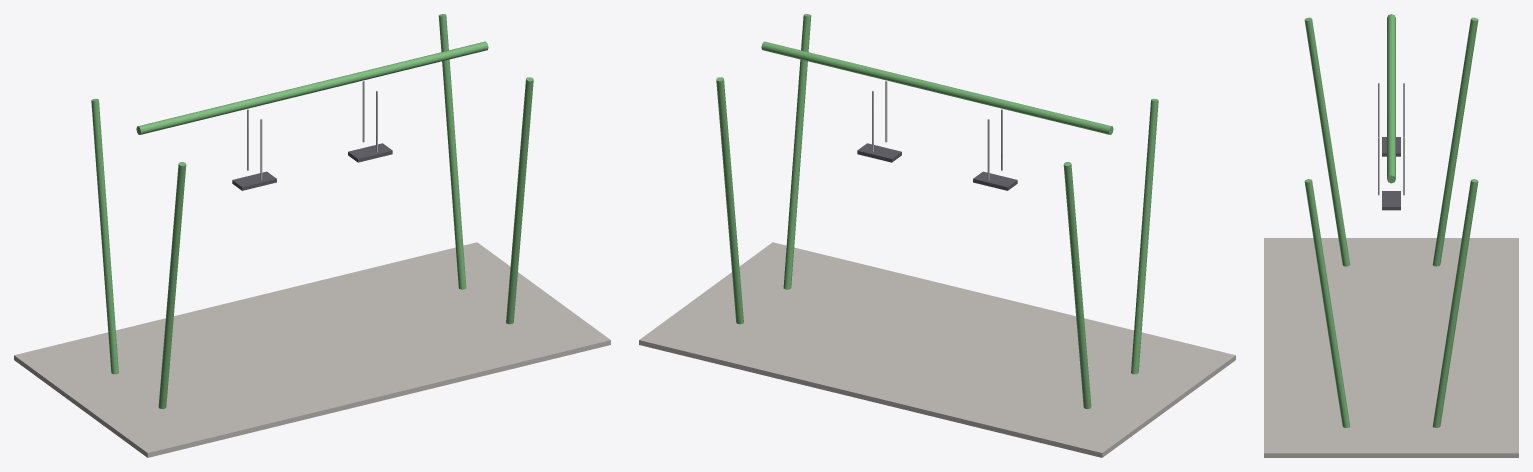
File: swing_set.glb
3 renders of one model, left to right at view 1: azimuth 30°, elevation 25°; view 2: azimuth 150°, elevation 25°; view 3: azimuth 270°, elevation 25°, orthographic. The views are drawn at different scales.
Parts seen in each view (by area): view 1: base, top_bar, leg_l_b, leg_r_b, leg_r_f, leg_l_f; view 2: base, top_bar, leg_l_f, leg_r_f, leg_r_b, leg_l_b; view 3: base, leg_l_f, leg_l_b, leg_r_f, leg_r_b, top_bar, seat_2.
Part boxes in pixels (box(x1,y1,x2,y2)): base: box(14, 242, 610, 457); top_bar: box(136, 41, 488, 134); leg_l_b: box(91, 98, 118, 374); leg_r_b: box(438, 14, 466, 289); leg_r_f: box(506, 77, 533, 324); leg_l_f: box(158, 162, 186, 408); base: box(639, 242, 1235, 457); top_bar: box(761, 41, 1113, 134); leg_l_f: box(1131, 98, 1158, 374); leg_r_f: box(783, 14, 811, 289); leg_r_b: box(716, 77, 743, 324); leg_l_b: box(1063, 162, 1091, 408); base: box(1264, 238, 1518, 457); leg_l_f: box(1304, 17, 1350, 266); leg_l_b: box(1432, 17, 1478, 266); leg_r_f: box(1304, 179, 1350, 427); leg_r_b: box(1432, 179, 1478, 427); top_bar: box(1387, 14, 1395, 183); seat_2: box(1382, 191, 1400, 210).
Size of the model in its own units: 4 by 2.23 by 2.
